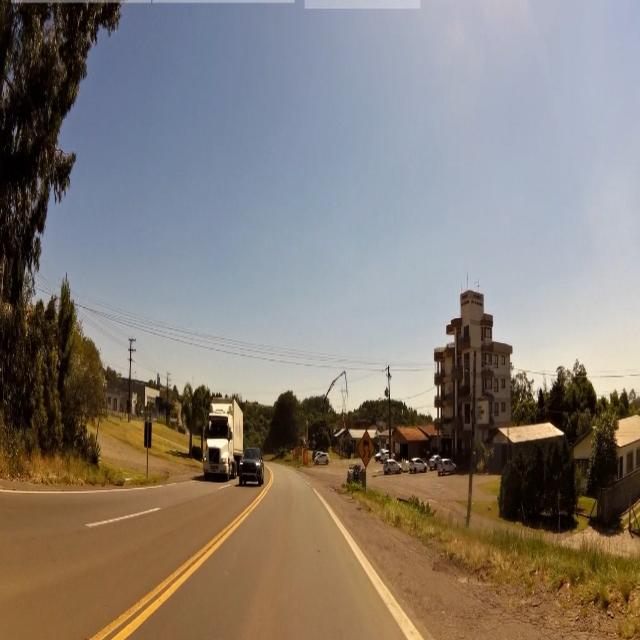A-28: (357, 429, 375, 470)
